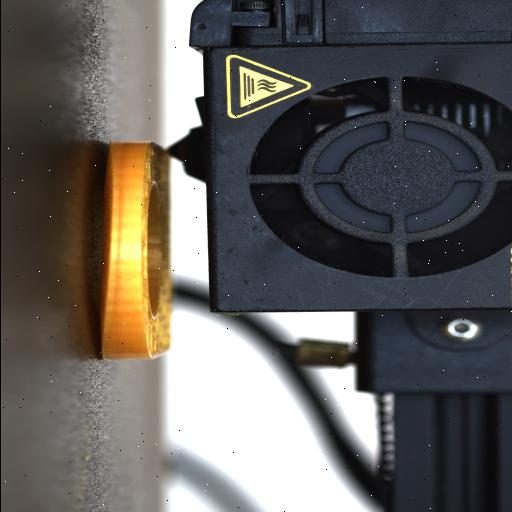warp: (90, 140, 132, 364)
